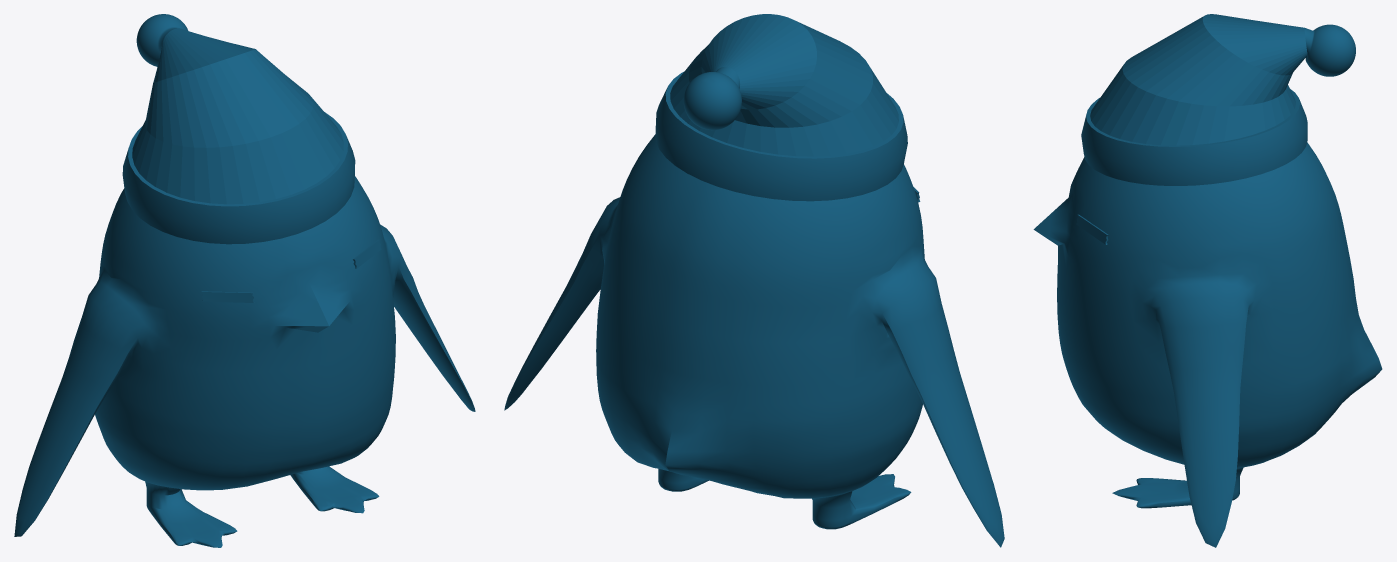
The model's file is penguin_blue_idle_16f.fbx.
3 views of the same model, side by side, from view 1: azimuth 30°, elevation 25°; view 2: azimuth 150°, elevation 25°; view 3: azimuth 270°, elevation 25° (orthographic). The views are drawn at different scales.
Visible parts, largest first — view 1: ppp_16, bousi, ai; view 2: ppp_16, bousi; view 3: ppp_16, bousi.
Part boxes in pixels (x1,y1,x2,y2): ppp_16: (14,176,475,547); bousi: (122,14,355,244); ai: (201,239,381,302); ppp_16: (504,134,1004,547); bousi: (655,14,907,201); ppp_16: (1033,142,1382,547); bousi: (1081,14,1355,185).
Bounding box in the file's own units: 21.59 × 20.1 × 14.66.
Materials: 1 (1 with a texture image).
